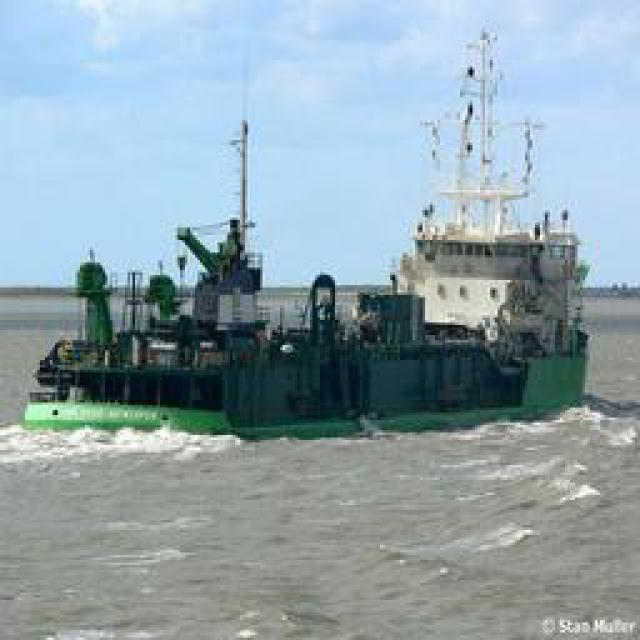Ship: (23, 23, 597, 450)
